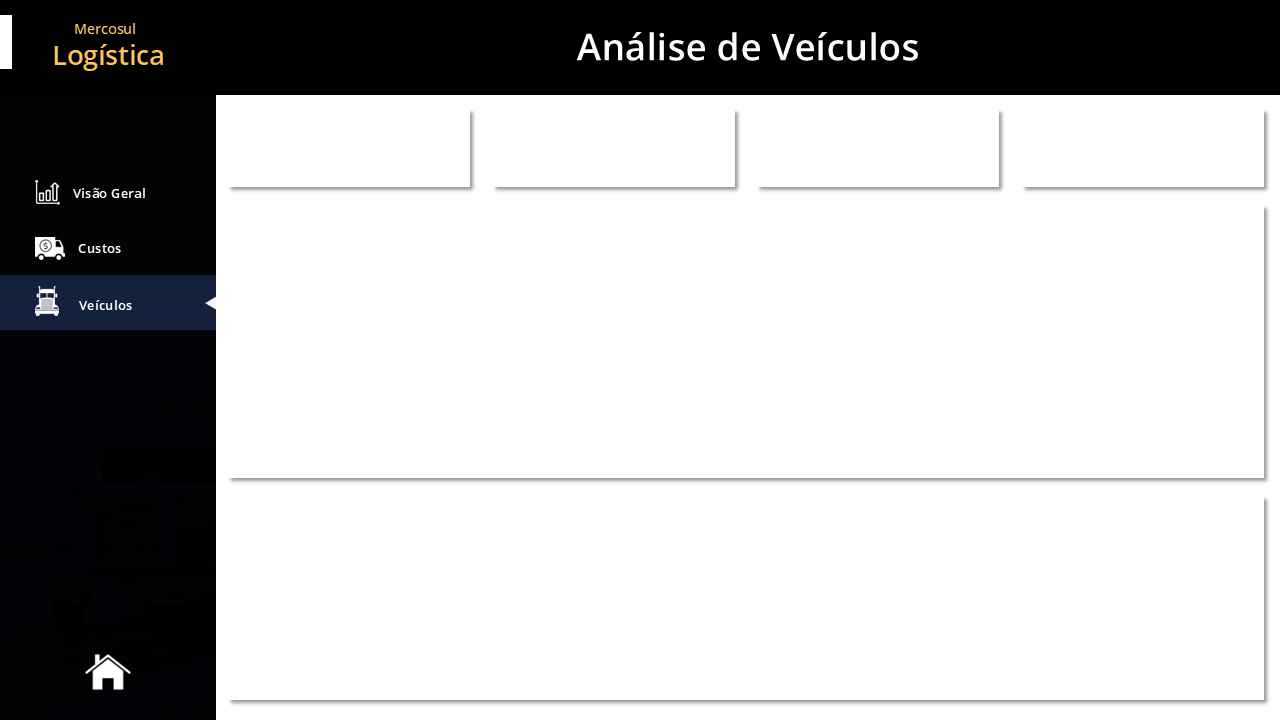

What the dashboard file says about the page in this screenshot:
{"tool":"powerbi","page":{"name":"Análise de Veículos","canvas":[1280,720],"ordinal":3},"visuals":[{"type":"multiRowCard","fields":{"Values":["_Medidas.Km percorridos"]},"box":[1030.5,107.5,231.9,77.3],"z":0},{"type":"multiRowCard","fields":{"Values":["_Medidas.Peso Total (ton)"]},"box":[763.5,108.7,230.7,77.3],"z":1000},{"type":"pivotTable","fields":{"Rows":["dVeiculo.Marca","dVeiculo.Tipo Veículo"],"Values":["_Medidas.Entregas","_Medidas.Valor Total da Mercadoria","_Medidas.Peso Total (ton)","_Medidas.Km percorridos","_Medidas.Valor Total Frete","_Medidas.Custo Total","_Medidas.Lucro Final","_Medidas.Lucro por Ton","_Medidas.Lucro por km"]},"box":[236.1,211.1,1026.3,269.8],"z":2000},{"type":"clusteredColumnChart","fields":{"Y":["_Medidas.Resultado"],"Category":["Calendario.Data.Variation.Hierarquia de datas.Ano","Calendario.Data.Variation.Hierarquia de datas.Mês","Calendario.Data.Variation.Hierarquia de datas.Dia"]},"box":[234.6,500,1027.8,199.4],"z":3000},{"type":"slicer","fields":{"Values":["Calendario.Ano"]},"box":[1106.8,15.1,158.1,71.5],"z":4000},{"type":"multiRowCard","fields":{"Values":["_Medidas.Quantidade de Viagens"]},"box":[495.3,111.1,239.2,68.9],"z":5000},{"type":"multiRowCard","fields":{"Values":["_Medidas.Lucro Final"]},"box":[235.6,109.9,233.2,77.3],"z":6000},{"type":"actionButton","box":[82.1,646.3,50.7,50.7],"z":7000},{"type":"actionButton","box":[0,165.5,217.4,55.6],"z":8000},{"type":"actionButton","box":[0,221.1,217.4,55.6],"z":9000}]}

Visuals, with their boxes on the page's 1280x720 design canvas (x1, y1, x2, y2). These are canvas units, not pixel positions in the 1280x720 screenshot, which may show the page scaled, cropped or inside an application window:
multiRowCard - _Medidas.Km percorridos: BBox(1030, 108, 1262, 185)
multiRowCard - _Medidas.Peso Total (ton): BBox(764, 109, 994, 186)
pivotTable - dVeiculo.Marca x dVeiculo.Tipo Veículo: BBox(236, 211, 1262, 481)
clusteredColumnChart - _Medidas.Resultado x Calendario.Data.Variation.Hierarquia de datas.Ano: BBox(235, 500, 1262, 699)
slicer - Calendario.Ano: BBox(1107, 15, 1265, 87)
multiRowCard - _Medidas.Quantidade de Viagens: BBox(495, 111, 734, 180)
multiRowCard - _Medidas.Lucro Final: BBox(236, 110, 469, 187)
actionButton: BBox(82, 646, 133, 697)
actionButton: BBox(0, 166, 217, 221)
actionButton: BBox(0, 221, 217, 277)
